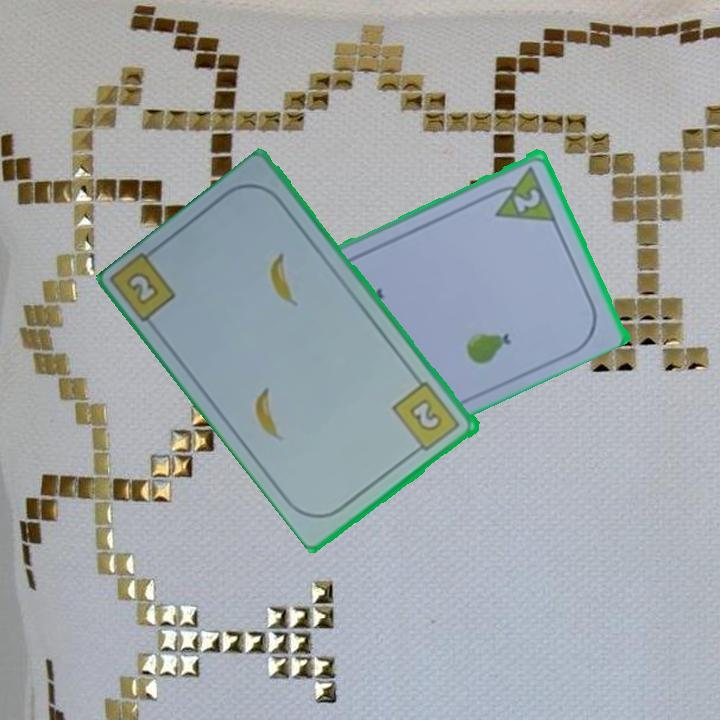2b: (109, 243, 180, 327), (389, 378, 464, 457)
2p: (510, 184, 544, 215)
